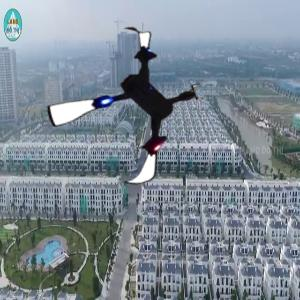drone: (45, 27, 209, 191)
